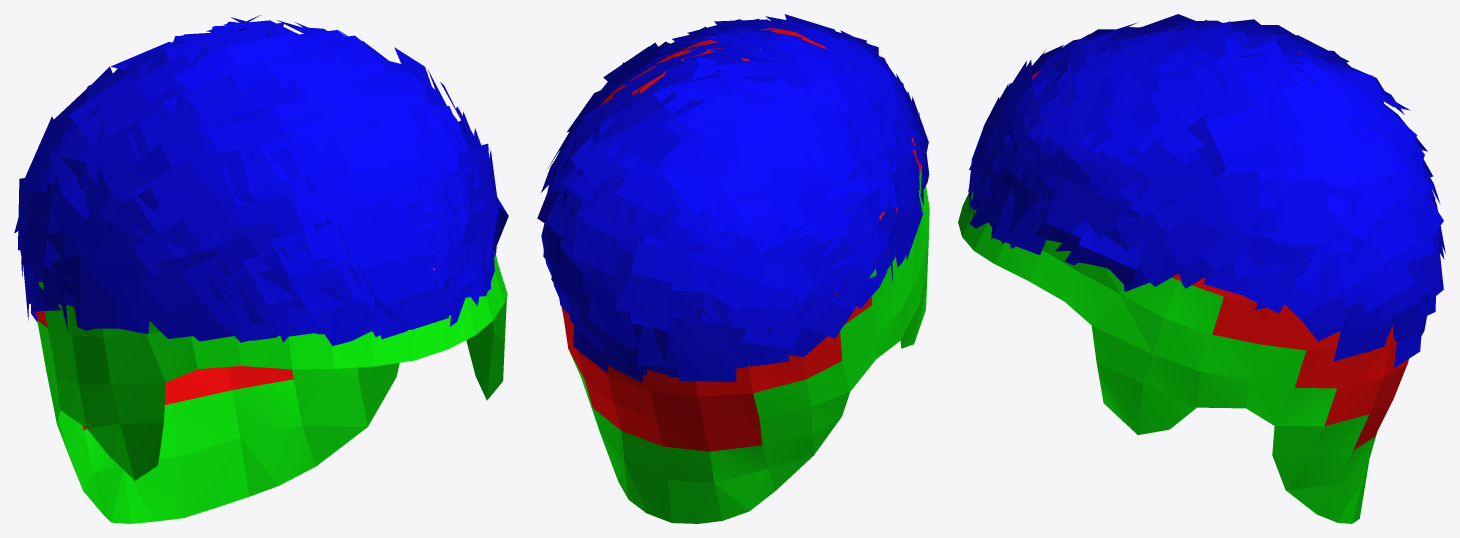
The model's file is hair_003.obj.
3 renders of one model, left to right at view 1: azimuth 30°, elevation 25°; view 2: azimuth 150°, elevation 25°; view 3: azimuth 270°, elevation 25°, orthographic. The views are drawn at different scales.
Bounding box in the file's own units: 16.7 × 21.16 × 19.96.
